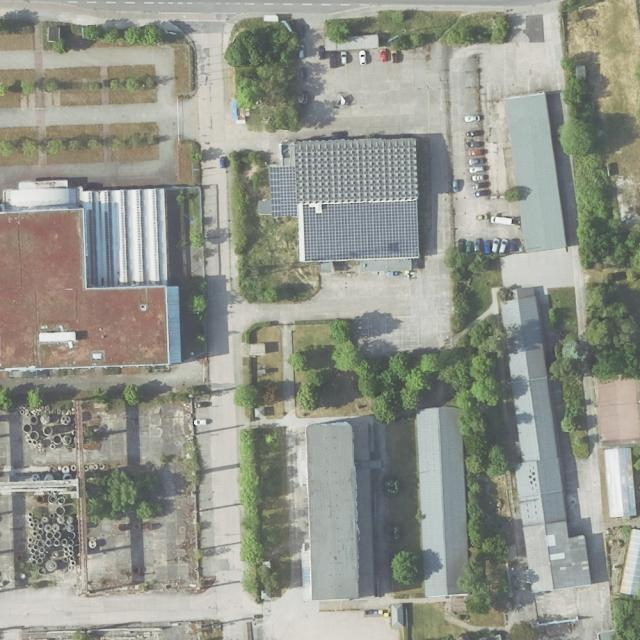PV: (302, 200, 419, 261), (268, 166, 298, 217)
